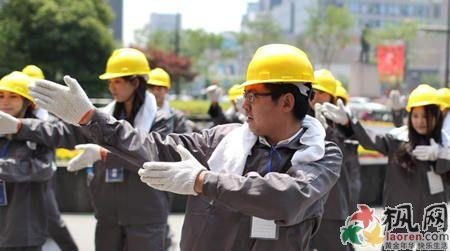helmet: (244, 42, 315, 85), (102, 48, 150, 82), (1, 72, 37, 106), (408, 84, 441, 110), (308, 68, 339, 95), (147, 67, 173, 86), (21, 65, 49, 80), (230, 87, 244, 100)
